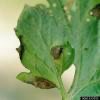Tomato leaf late blight: (12, 2, 81, 97)
